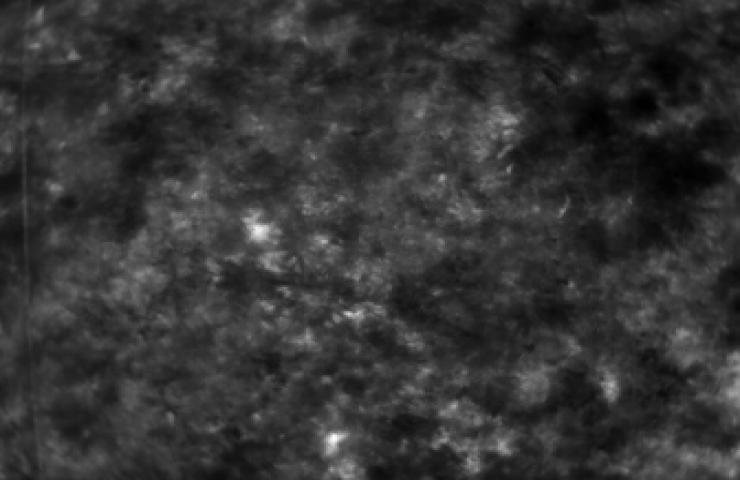landmines: (242, 211, 282, 248)
